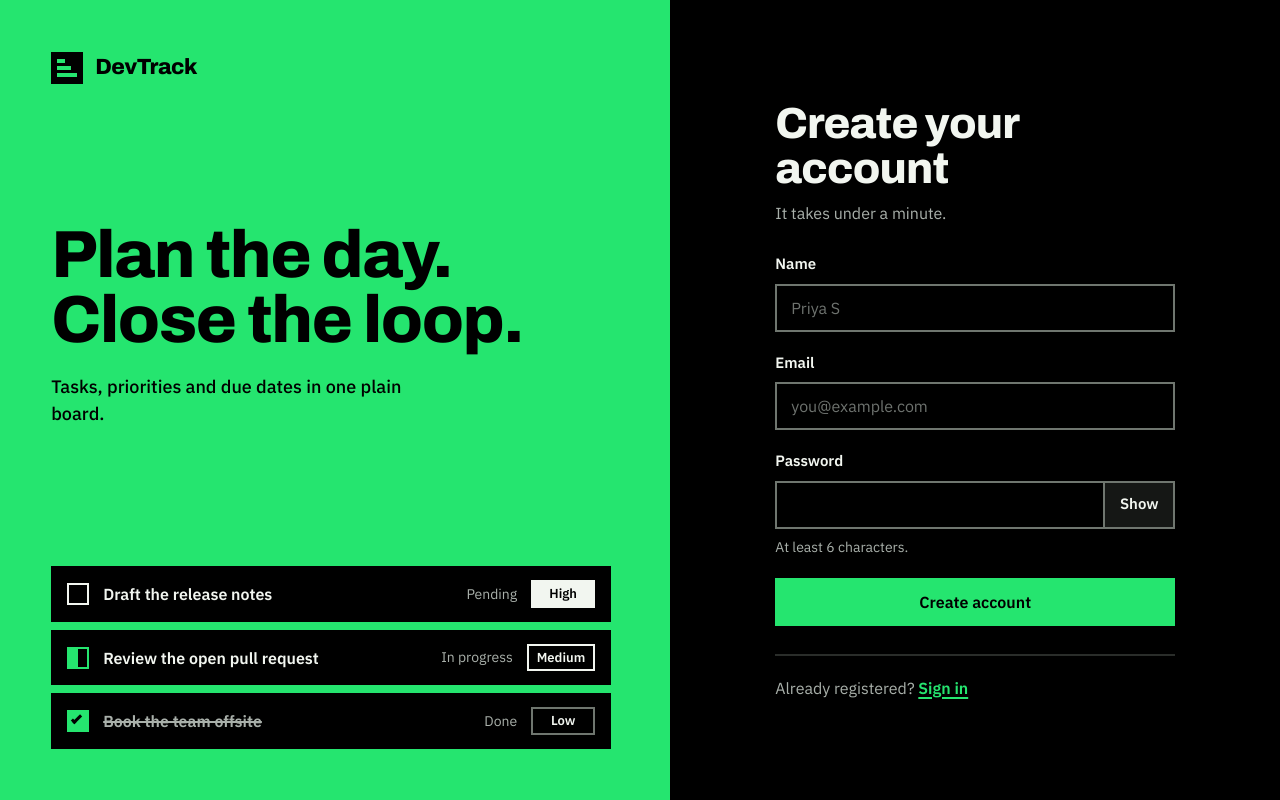
Test: Register page › shows a strength label that is text, not colour only
Step 1. Type "Abcdefg1!xyz" into the password field labelled "Password" → (939, 504), box [775,480,1103,528]
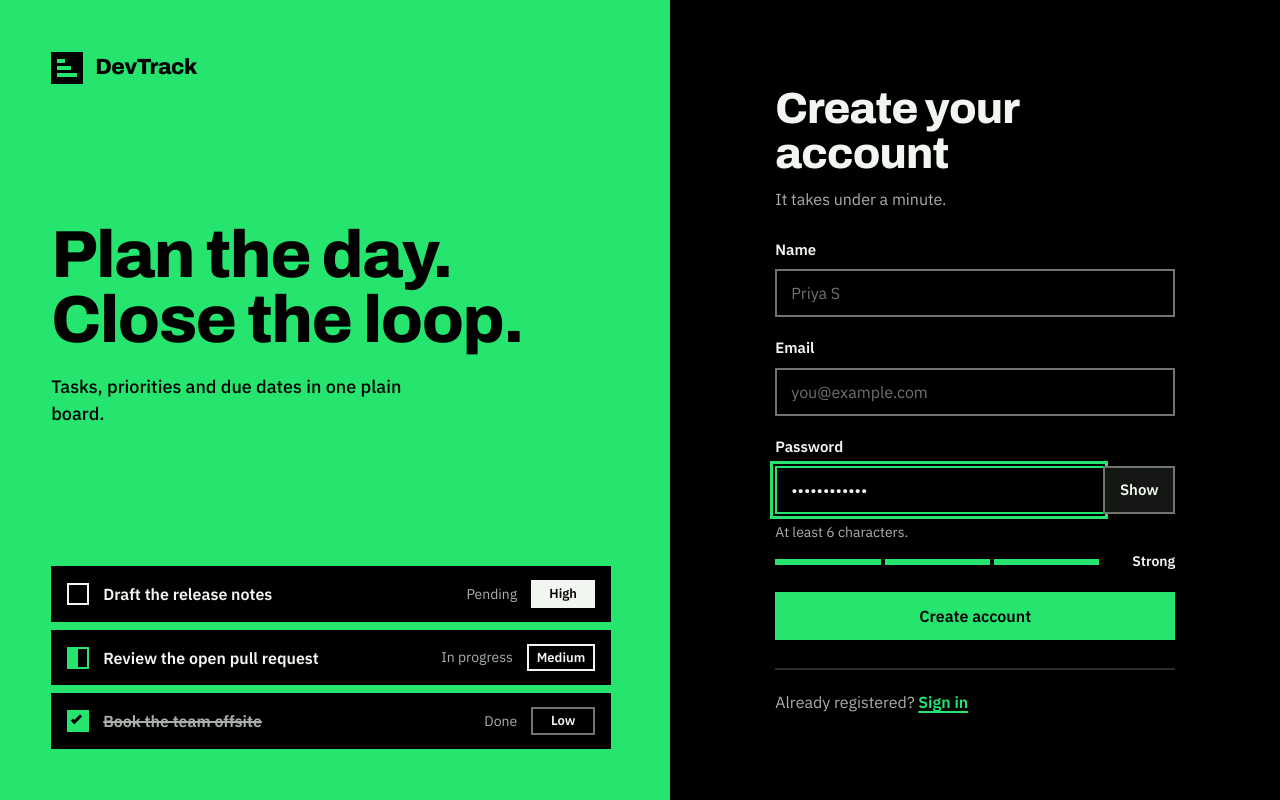
Expected: the message reads "Strong", [1132,552,1175,570]
